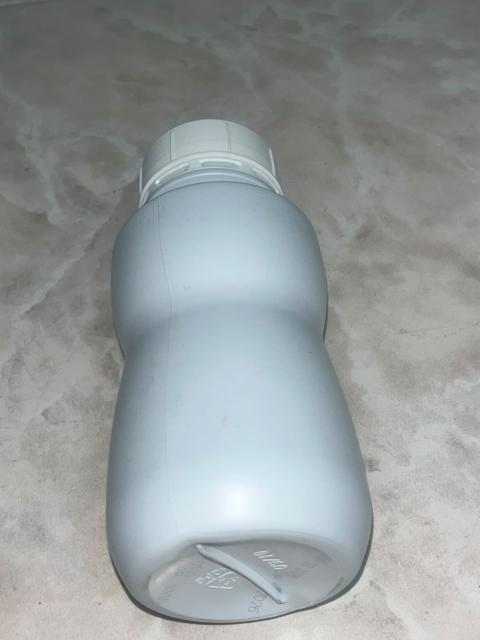HDPE: (101, 115, 392, 637)
